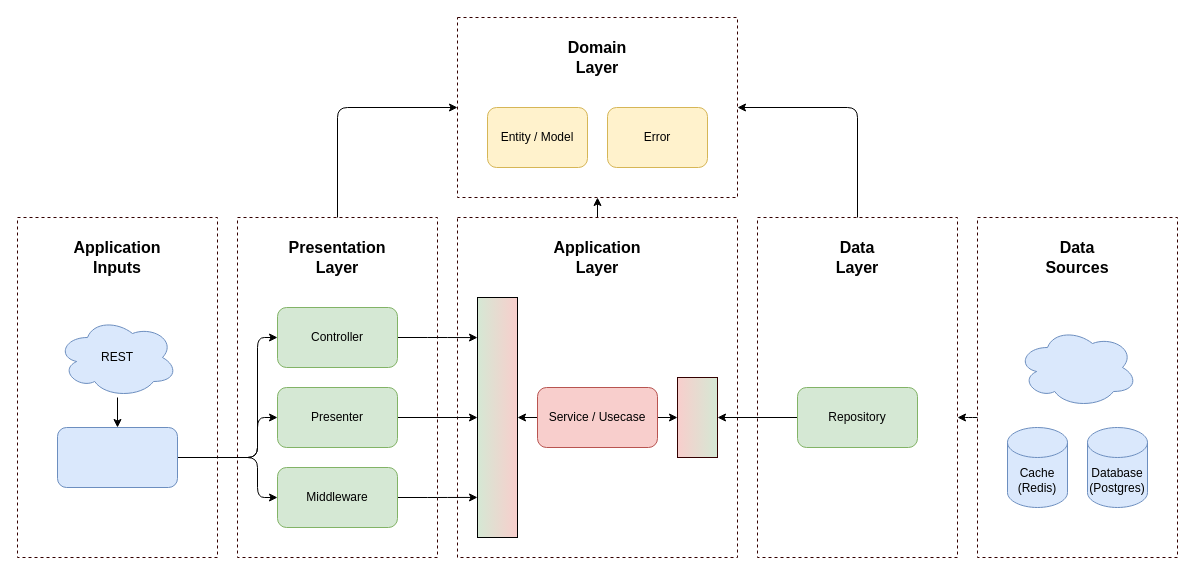
Some shapes in this 1195 by 575 pixel diagram are drawn without their labels. The centre of each missing label's shape, as x and y in pixels:
External Services: the point at 1077,367
repository interface: the point at 697,417
Router: the point at 117,457
service interface: the point at 497,417
